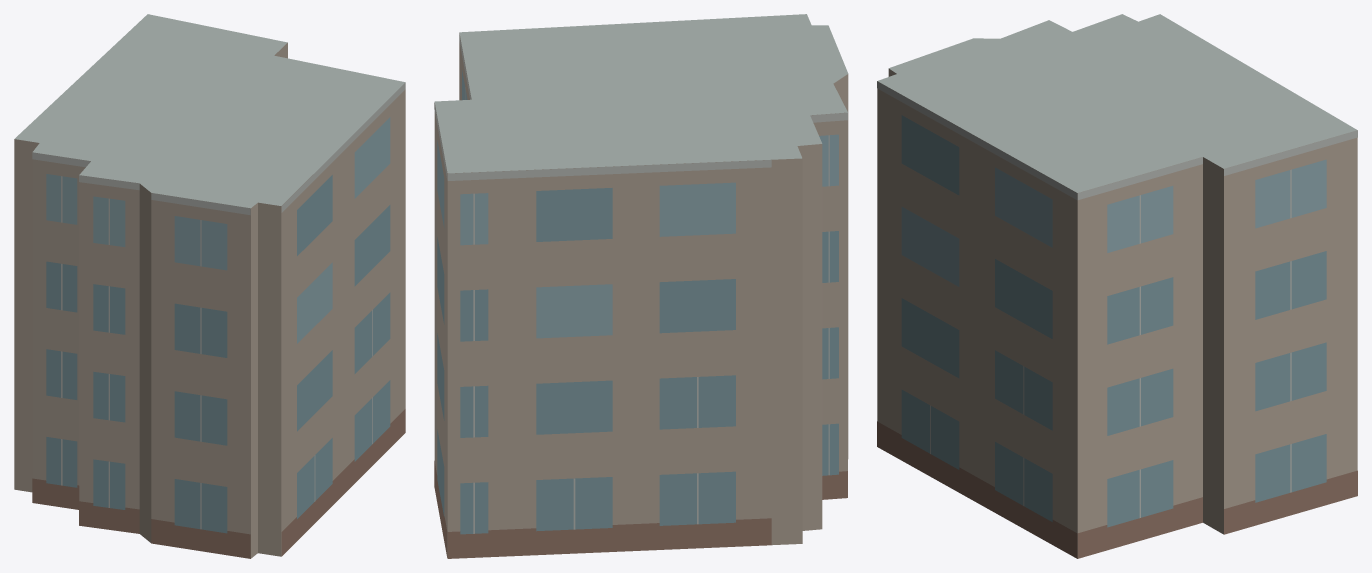
The model's file is survey-upis-32487304.glb.
The picture shows the model from 3 angles, left to right: view 1: azimuth 30°, elevation 25°; view 2: azimuth 150°, elevation 25°; view 3: azimuth 270°, elevation 25°; orthographic projection. The views are drawn at different scales.
Parts seen in each view (by area): view 1: survey-upis-32487304.tmp; view 2: survey-upis-32487304.tmp; view 3: survey-upis-32487304.tmp.
Boxes of the visible parts, left/top/right/bottom form: survey-upis-32487304.tmp: left=14, top=14, right=405, bottom=558; survey-upis-32487304.tmp: left=434, top=14, right=848, bottom=558; survey-upis-32487304.tmp: left=877, top=14, right=1357, bottom=558.
Size of the model in its own units: 12.82 by 12.2 by 14.53.
